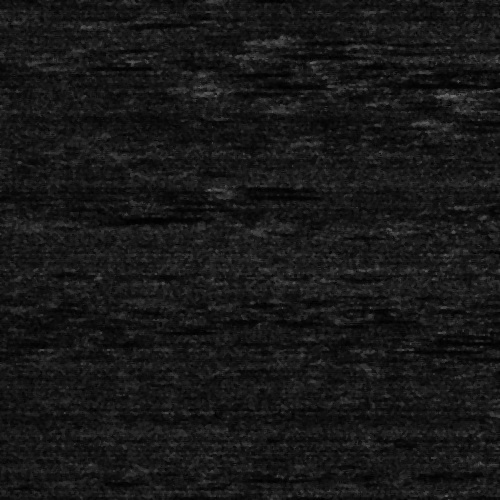rock: (420, 85, 500, 98), (209, 50, 302, 57), (176, 68, 259, 73), (88, 20, 141, 27), (176, 88, 249, 93), (219, 38, 292, 43), (419, 103, 482, 108), (392, 116, 455, 121), (343, 79, 384, 84), (34, 216, 65, 221), (202, 186, 243, 189), (39, 63, 70, 66)
shadow: (256, 50, 336, 57), (115, 20, 184, 27), (50, 216, 143, 221), (467, 85, 500, 98), (424, 116, 500, 121), (218, 68, 276, 73), (213, 88, 271, 93), (451, 103, 500, 108), (256, 38, 296, 43), (55, 63, 120, 66), (223, 186, 261, 189), (364, 79, 386, 84)
